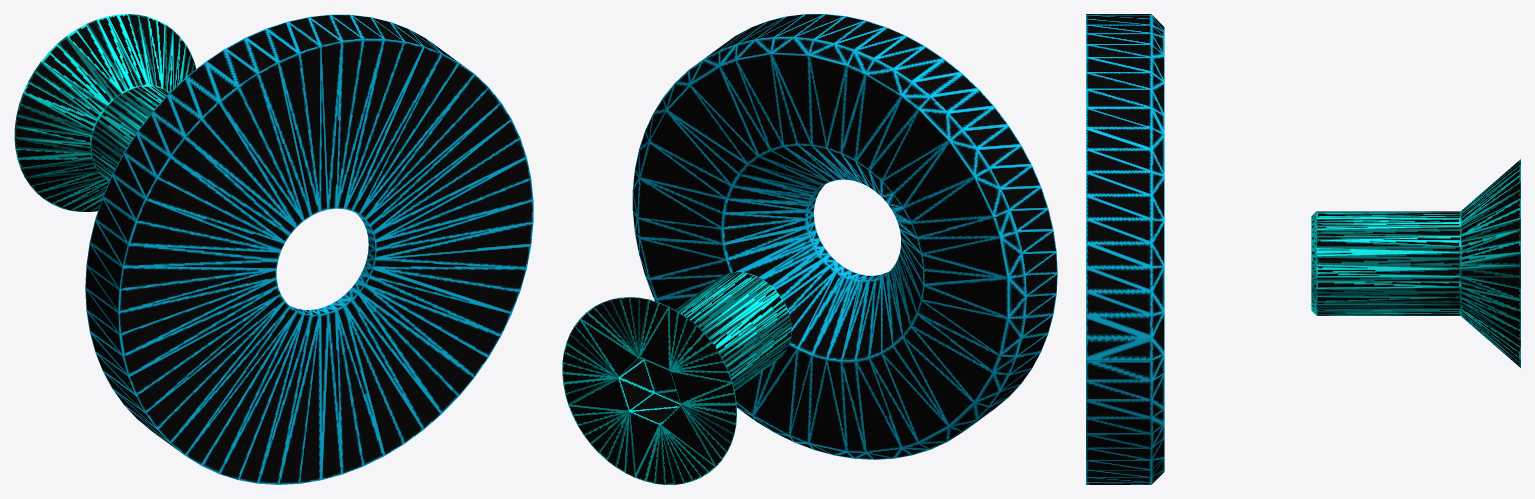
Rendered from Mold1-Ejector plate rest-M.glb.
The picture shows the model from 3 angles, left to right: view 1: azimuth 30°, elevation 25°; view 2: azimuth 150°, elevation 25°; view 3: azimuth 270°, elevation 25°; orthographic projection. The views are drawn at different scales.
Parts seen in each view (by area): view 1: vis tête fraisé et rondelle, vis à six pon creux dia; view 2: vis tête fraisé et rondelle, vis à six pon creux dia; view 3: vis tête fraisé et rondelle, vis à six pon creux dia.
Part boxes in pixels (box(x1,y1,x2,y2)): vis tête fraisé et rondelle: box(85, 14, 533, 484); vis à six pon creux dia: box(14, 14, 196, 211); vis tête fraisé et rondelle: box(632, 14, 1057, 459); vis à six pon creux dia: box(562, 272, 791, 484); vis tête fraisé et rondelle: box(1086, 14, 1164, 484); vis à six pon creux dia: box(1311, 159, 1520, 367).
Bounding box in the file's own units: 0.4236 × 0.4238 × 0.391.
2 materials, 2 textured.
